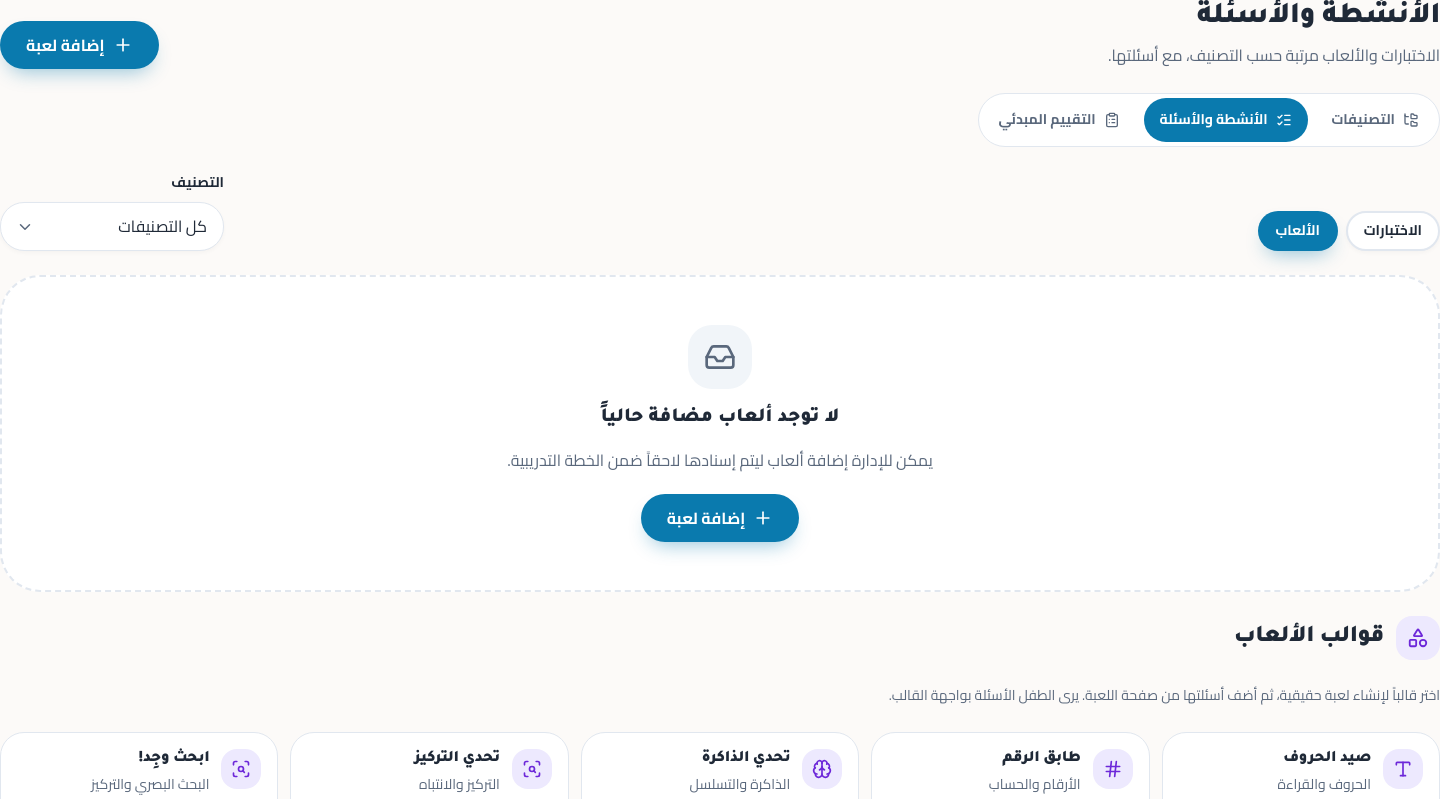
it: ActivitiesPage › explains that no games exist yet and offers «إضافة لعبة» (no demo games)
The width and height of the screenshot is (1440, 799).
Expected: the text "لا توجد ألعاب مضافة حالياً" is shown, [601,408,839,428]
Expected: the text "يمكن للإدارة إضافة ألعاب ليتم إسنادها لاحقاً ضمن الخطة التدريبية." is shown, [507,447,933,474]
Click the button "إضافة لعبة" below "لا توجد ألعاب مضافة حالياً" at (720, 518), box [641,494,799,542]
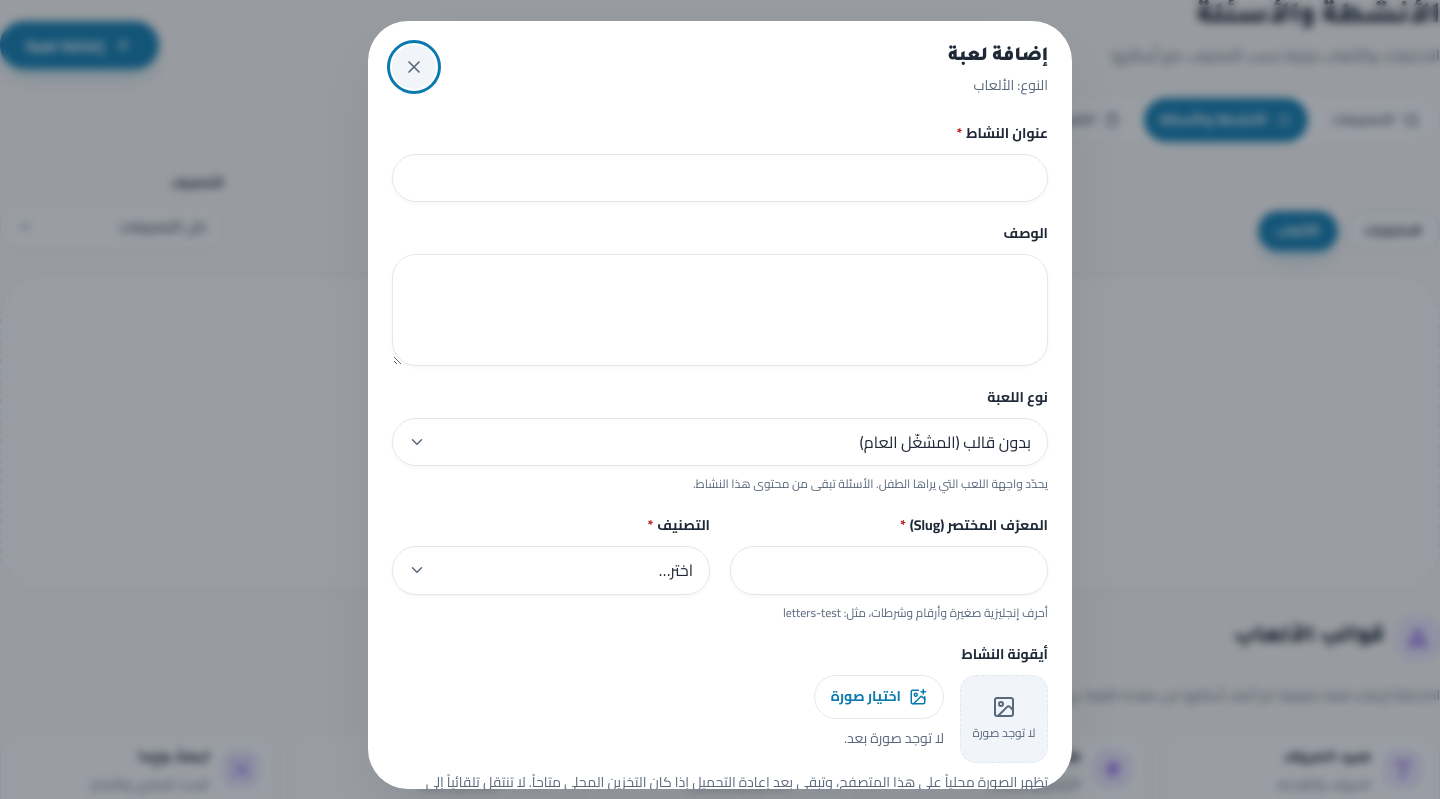
Now the text "النوع: الألعاب" is shown, box [974,72,1048,98]
